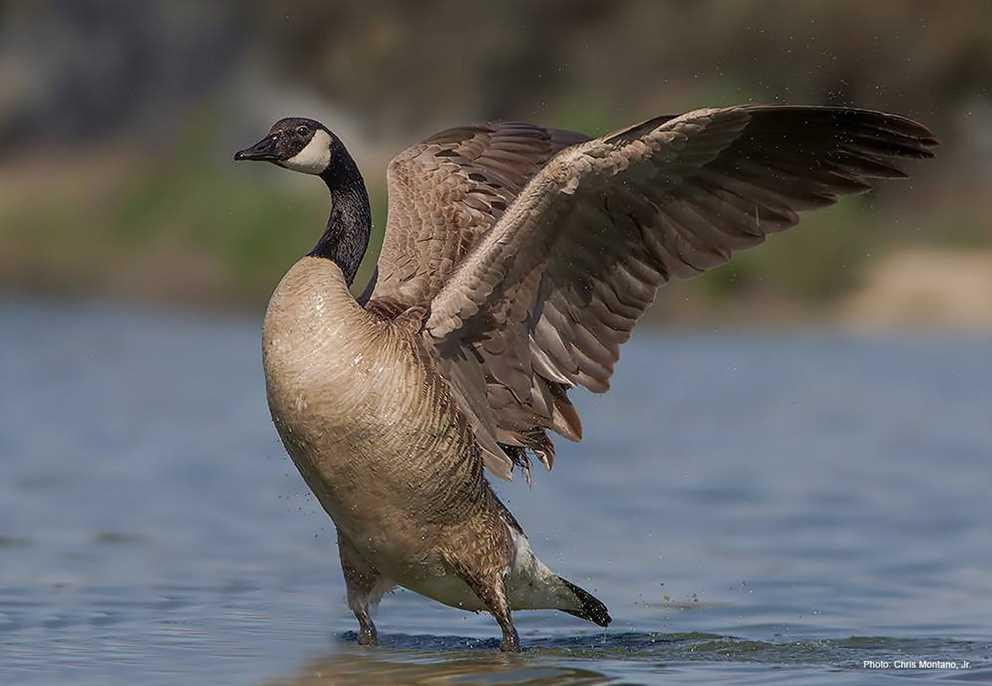Canadian-Goose: (235, 101, 935, 651)
